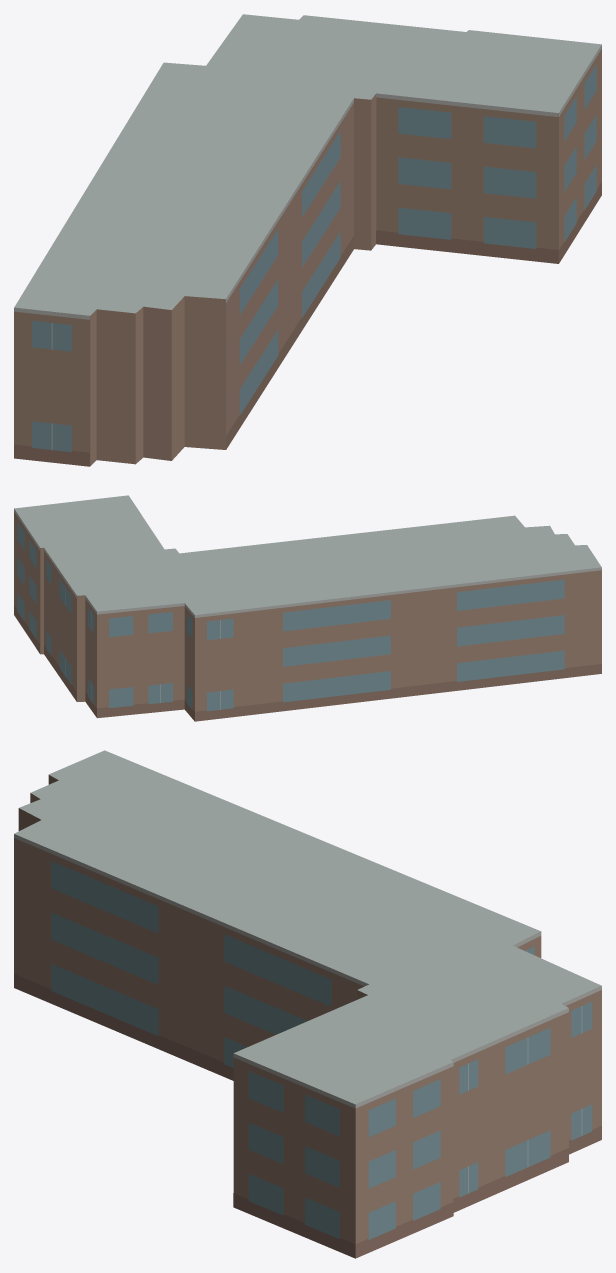
File: survey-upis-32880174.glb
3 renders of one model, top to bottom at view 1: azimuth 30°, elevation 25°; view 2: azimuth 150°, elevation 25°; view 3: azimuth 270°, elevation 25°, orthographic. The views are drawn at different scales.
Visible parts, largest first — view 1: survey-upis-32880174.tmp; view 2: survey-upis-32880174.tmp; view 3: survey-upis-32880174.tmp.
Boxes of the visible parts, left/top/right/bottom form: survey-upis-32880174.tmp: left=14, top=14, right=601, bottom=466; survey-upis-32880174.tmp: left=14, top=495, right=601, bottom=721; survey-upis-32880174.tmp: left=14, top=750, right=601, bottom=1258.
Bounding box in the file's own units: 45.1 × 9.15 × 31.64.
